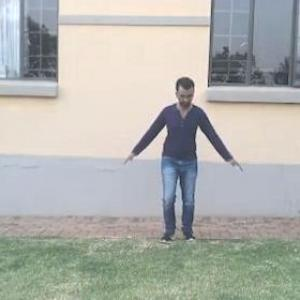land: (118, 73, 248, 245)
